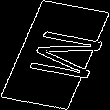M_E: (8, 26, 102, 84)
